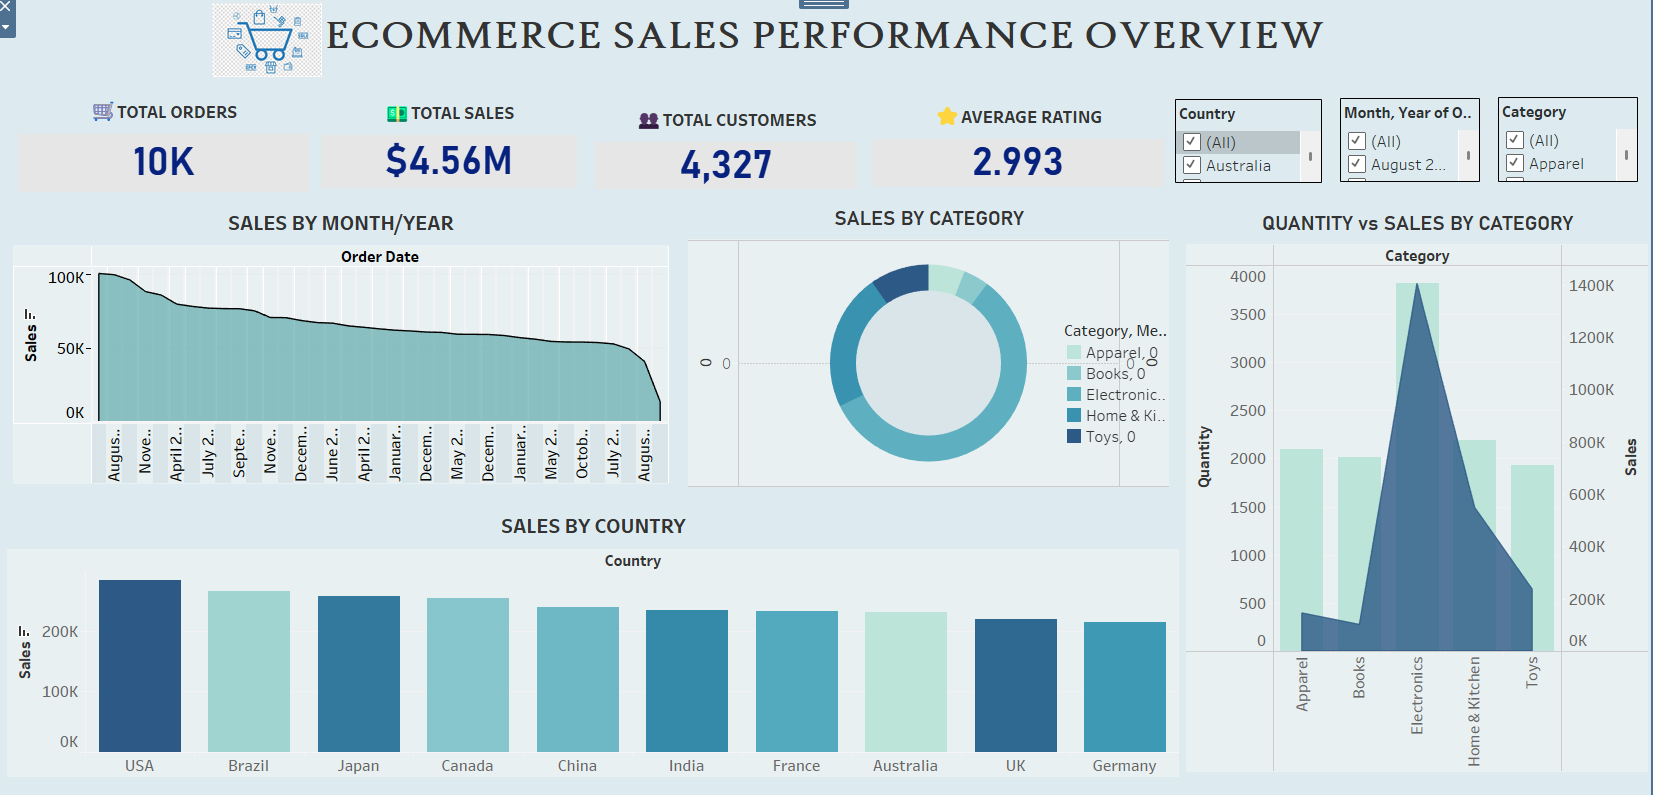

This screenshot's page, from the dashboard's own definition file:
{"tool":"tableau","page":{"name":"SALES DASHBOARD","canvas":[1000,1000],"units":"permille","ordinal":2},"visuals":[{"type":"image","param":"Image/ECOMMERCE SYMBOL 1.jpg","box":[130.4,8.7,66.4,96.1]},{"type":"worksheet","title":"Title","mark":"Automatic","box":[4.8,10,990.3,980]},{"type":"worksheet","title":"TOTAL ORDERS","mark":"Automatic","box":[13.5,119.9,175.8,124.8]},{"type":"worksheet","title":"TOTAL SALES","mark":"Automatic","box":[196.2,121.1,154.7,118.6]},{"type":"worksheet","title":"AVERAGE RATING","mark":"Automatic","box":[528.4,126.1,176.3,112.4]},{"type":"filter","title":"SALES BY YEAR","param":"[federated.0afmxs11m9kbcm1593nq411l45ka].[none:CATEGORY:nk]","box":[906.3,126.1,88.5,106.1]},{"type":"filter","title":"AVERAGE RATING","param":"[federated.0afmxs11m9kbcm1593nq411l45ka].[none:COUNTRY:nk]","box":[711.3,128.6,92.7,104.9]},{"type":"filter","title":"SALES BY YEAR","param":"[federated.0afmxs11m9kbcm1593nq411l45ka].[my:ORDER_DATE:ok]","box":[814.1,128.6,84.4,104.9]},{"type":"worksheet","title":"TOTAL CUSTOMERS","mark":"Automatic","box":[361.4,129.8,158.2,111.1]},{"type":"worksheet","title":"SALES BY YEAR","mark":"Area","rows":["SALES"],"cols":["ORDER_DATE"],"box":[10,259.7,396,349.6]},{"type":"worksheet","title":"SALES BY CATEGORY","mark":"Pie","rows":["Calculation_2941132097303085082","Calculation_2941132097303101468"],"box":[417.4,260.9,291,352.1]},{"type":"worksheet","title":"QUANTITY vs SALES BY CATEGORY","mark":"Bar","rows":["QUANTITY","SALES"],"cols":["CATEGORY"],"box":[718.2,267.2,279.4,701.6]},{"type":"legend","title":"QUANTITY vs SALES BY CATEGORY","param":"[federated.0afmxs11m9kbcm1593nq411l45ka].[none:CATEGORY:nk]","box":[674.7,363.3,84.5,109.9]},{"type":"legend","title":"SALES BY CATEGORY","param":"[federated.0afmxs11m9kbcm1593nq411l45ka].[none:CATEGORY:nk]\n[federated.0afmxs11m","box":[644.4,404.5,65,184.8]},{"type":"worksheet","title":"SALES BY COUNTRY","mark":"Automatic","rows":["SALES"],"cols":["COUNTRY"],"box":[6.4,638,707.7,337.1]}]}

Visuals, with their boxes on the dashboard's canvas, which has no fixed pixel size, in thousandths of its width and height (x1, y1, x2, y2). These are canvas units, not pixel positions in the 1653x795 screenshot, which may show the page scaled, cropped or inside an application window:
image: 130/9/197/105
"Title" worksheet: 5/10/995/990
"TOTAL ORDERS" worksheet: 14/120/189/245
"TOTAL SALES" worksheet: 196/121/351/240
"AVERAGE RATING" worksheet: 528/126/705/238
"SALES BY YEAR" filter: 906/126/995/232
"AVERAGE RATING" filter: 711/129/804/234
"SALES BY YEAR" filter: 814/129/898/234
"TOTAL CUSTOMERS" worksheet: 361/130/520/241
"SALES BY YEAR" worksheet (Area marks): 10/260/406/609
"SALES BY CATEGORY" worksheet (Pie marks): 417/261/708/613
"QUANTITY vs SALES BY CATEGORY" worksheet (Bar marks): 718/267/998/969
"QUANTITY vs SALES BY CATEGORY" legend: 675/363/759/473
"SALES BY CATEGORY" legend: 644/404/709/589
"SALES BY COUNTRY" worksheet: 6/638/714/975
